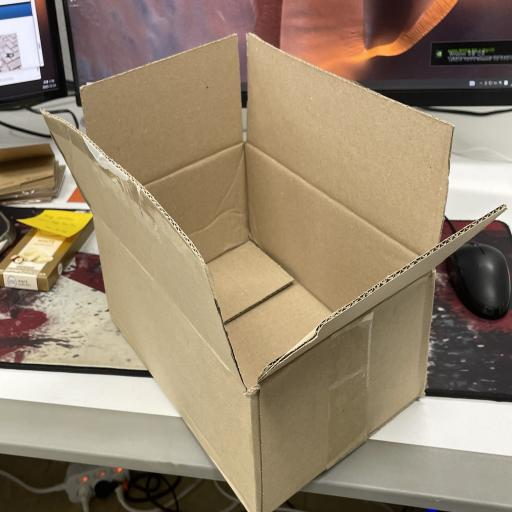box: (41, 31, 508, 511)
opened: (41, 31, 507, 384)
